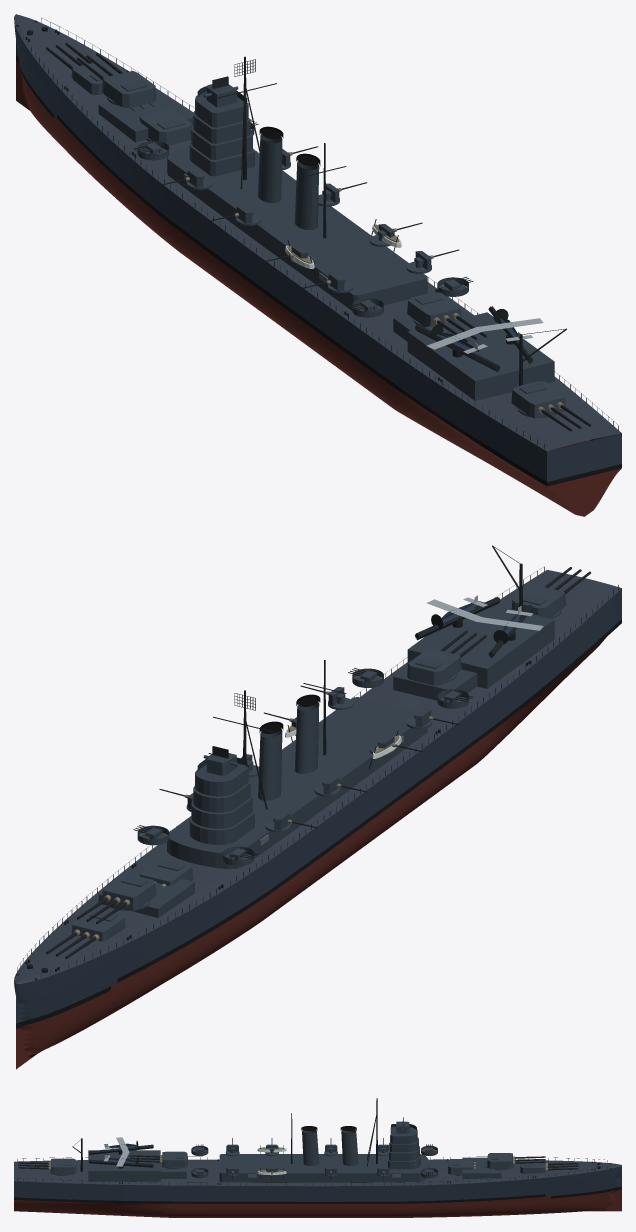
Rendered from brooklyn.glb.
The picture shows the model from 3 angles, top to bottom: view 1: azimuth 30°, elevation 25°; view 2: azimuth 150°, elevation 25°; view 3: azimuth 270°, elevation 25°; orthographic projection. The views are drawn at different scales.
Parts seen in each view (by area): view 1: Hull, Turret2, Turret5, Turret4, Turret3, Turret1, Director; view 2: Hull, Turret4, Turret2, Turret5, Turret1, Turret3, Director; view 3: Hull, Turret5, Turret2, Turret4, Turret1, Turret3.
Boxes of the visible parts, <box> form: Hull: <box>14,14,621,516</box>; Turret2: <box>77,53,156,107</box>; Turret5: <box>511,381,591,431</box>; Turret4: <box>407,292,486,342</box>; Turret3: <box>130,103,192,145</box>; Turret1: <box>46,42,118,94</box>; Director: <box>203,76,238,107</box>; Hull: <box>14,545,621,1069</box>; Turret4: <box>407,630,486,685</box>; Turret2: <box>76,874,156,924</box>; Turret5: <box>511,567,590,618</box>; Turret1: <box>46,909,125,958</box>; Turret3: <box>139,858,193,886</box>; Director: <box>203,746,238,775</box>; Hull: <box>14,1098,621,1217</box>; Turret5: <box>18,1158,76,1175</box>; Turret2: <box>487,1153,545,1170</box>; Turret4: <box>129,1151,187,1169</box>; Turret1: <box>520,1160,578,1173</box>; Turret3: <box>448,1159,487,1175</box>.
Size of the model in its own units: 29.8 by 38 by 185.
